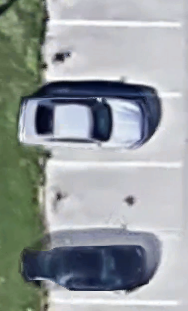Occupied: (47, 229, 178, 305), (47, 94, 181, 166)
Vacant: (48, 21, 180, 96), (47, 164, 179, 232)
